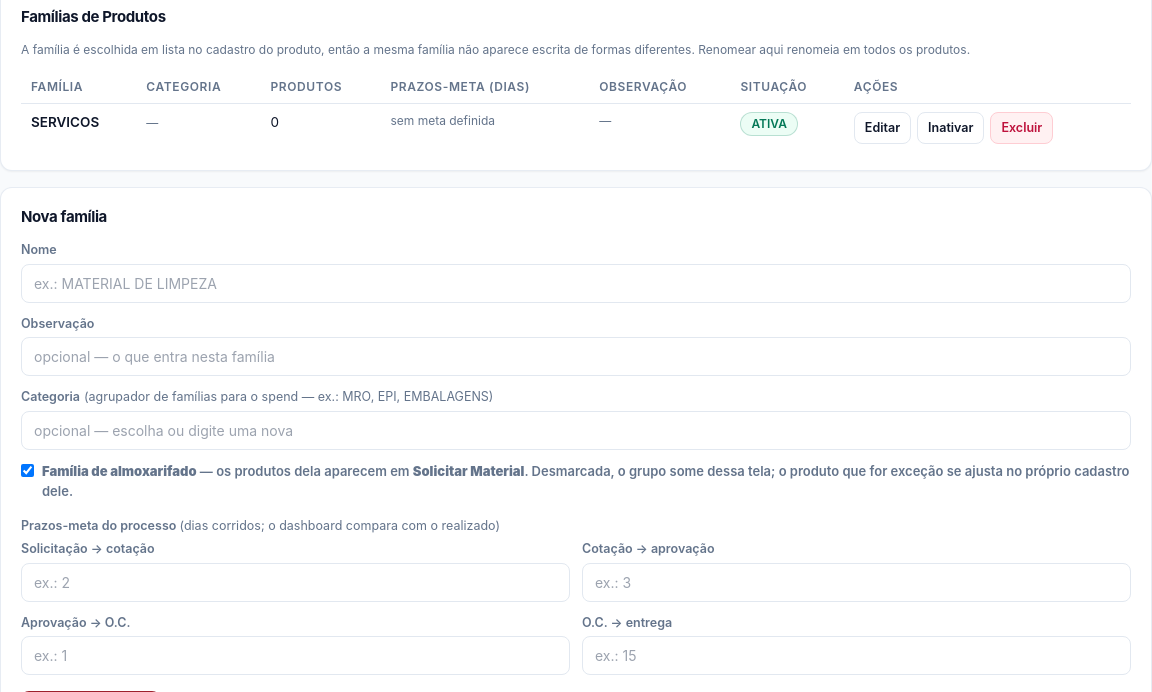
it: <Familias /> › editar uma família traz a marca que ela tem
Click the button "Editar" at (882, 128), box [854,112,911,144]
(page scrolled)
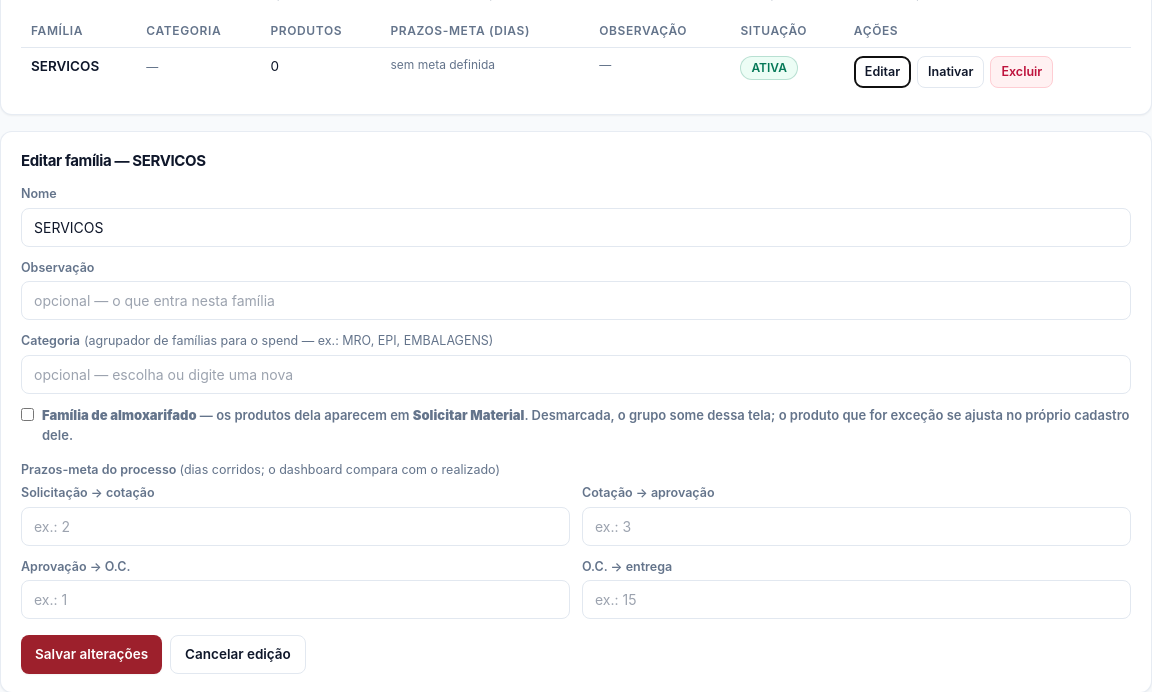
Expected: the checkbox with test id "fam-material" is not checked, [21,408,34,421]
